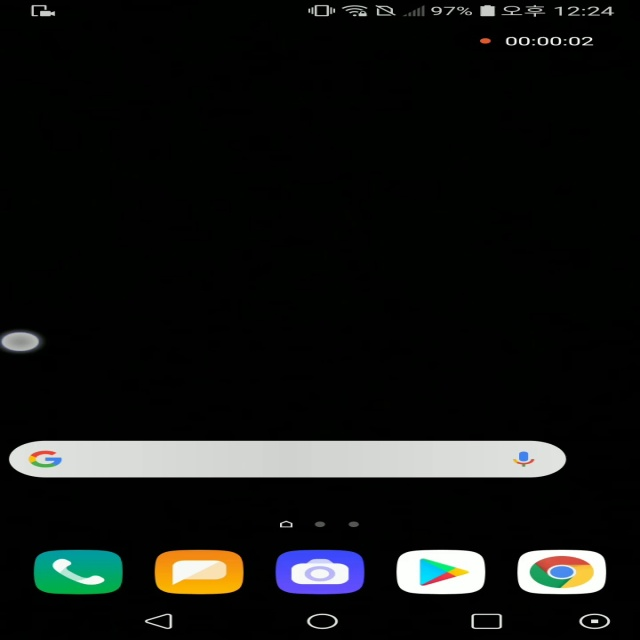Cursor: (1, 331, 45, 353)
